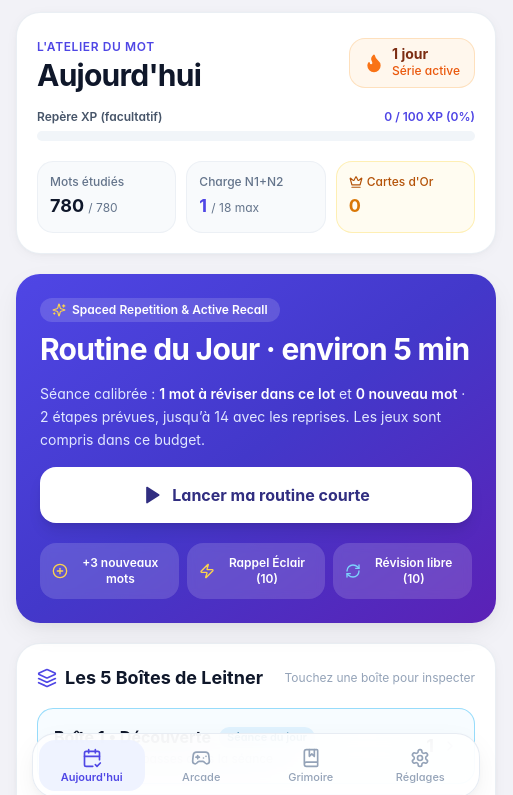
Test: retains a failed N1 pass 2 after the other passes and a next-day reload
The width and height of the screenshot is (513, 795).
Earlier steps of the test are not shown.
Click the button "Lancer ma routine courte" at (256, 495), box [40,467,472,523]
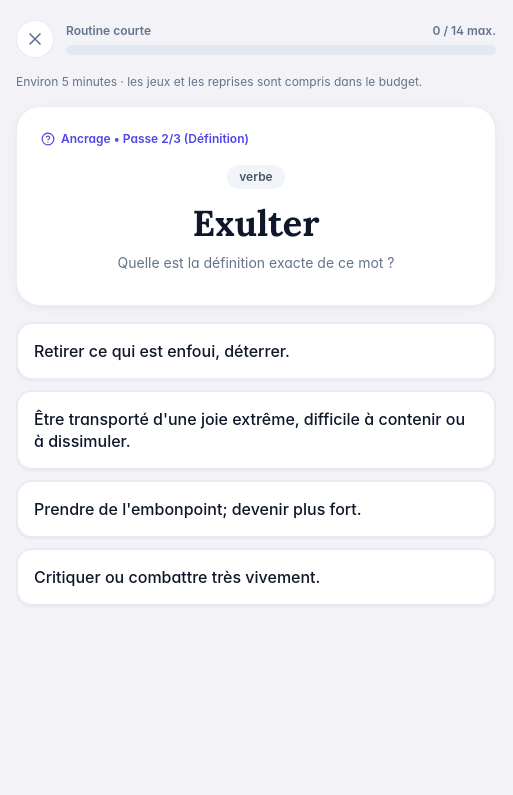
Now the text "Ancrage • Passe 2/3 (Définition)" is shown, box [61,131,249,147]
